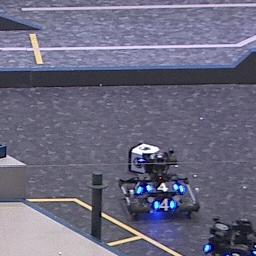Blue: (145, 181, 180, 193), (152, 198, 176, 212)
Robot: (118, 150, 203, 222), (204, 215, 256, 256)
